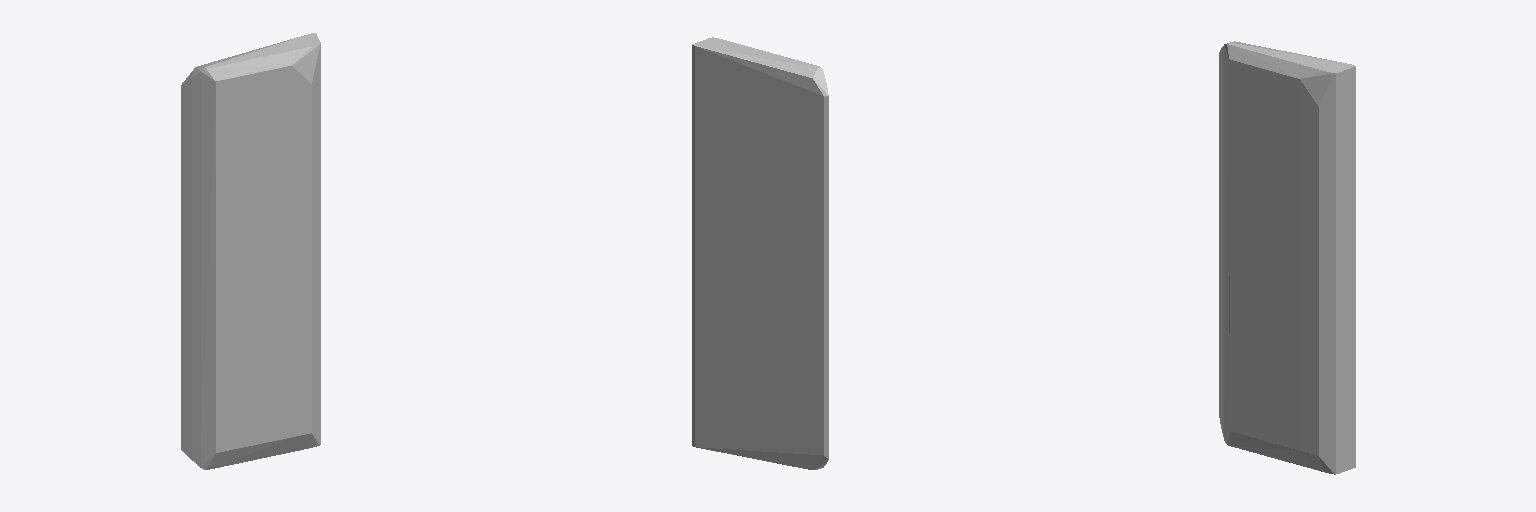
File: keyboard_cvx.obj
3 views of the same model, side by side, from view 1: azimuth 30°, elevation 25°; view 2: azimuth 150°, elevation 25°; view 3: azimuth 330°, elevation 25° (orthographic).
Size of the model in its own units: 0.2585 by 0.727 by 0.0567.